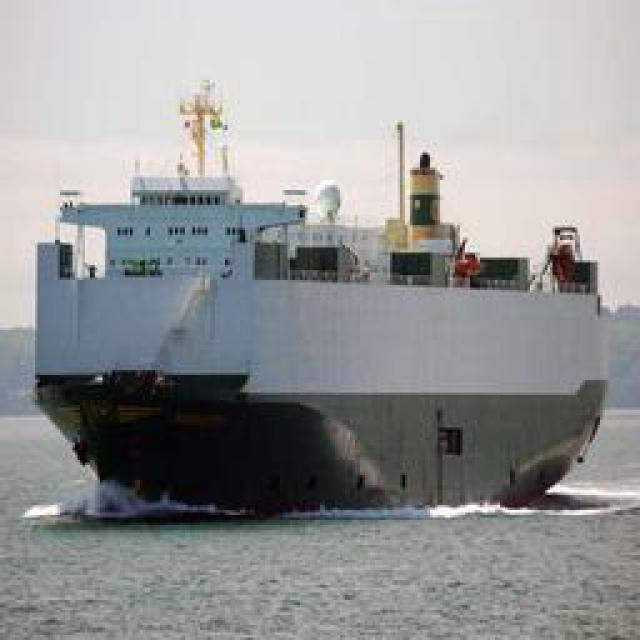Ship: (24, 87, 619, 515)
